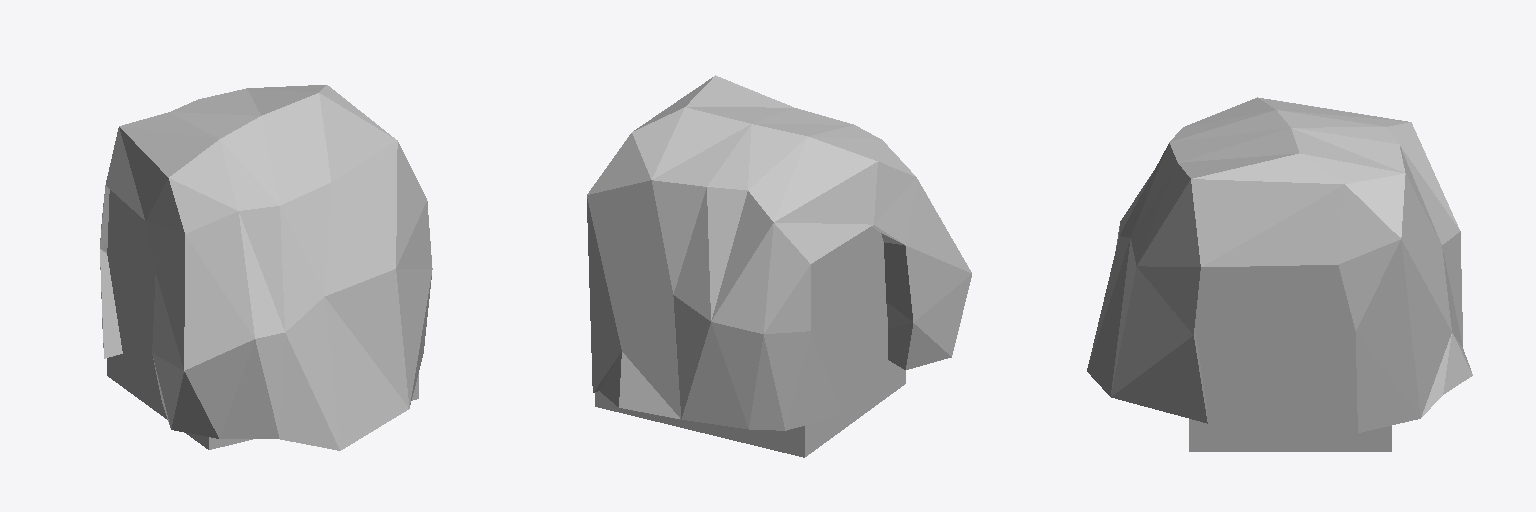
Rendered from cavefloor.obj.
The picture shows the model from 3 angles: view 1: azimuth 30°, elevation 25°; view 2: azimuth 150°, elevation 25°; view 3: azimuth 270°, elevation 25°; orthographic projection.
Visible parts, largest first — view 1: Torus.003, Cube; view 2: Torus.003, Cube; view 3: Torus.003, Cube.
Part boxes in pixels (x1,y1,x2,y2): Torus.003: (100, 85, 432, 450); Cube: (107, 190, 418, 449); Torus.003: (587, 75, 971, 430); Cube: (595, 226, 905, 457); Torus.003: (1087, 97, 1472, 432); Cube: (1189, 265, 1391, 451).
Bounding box in the file's own units: 17.88 × 17.1 × 21.66.